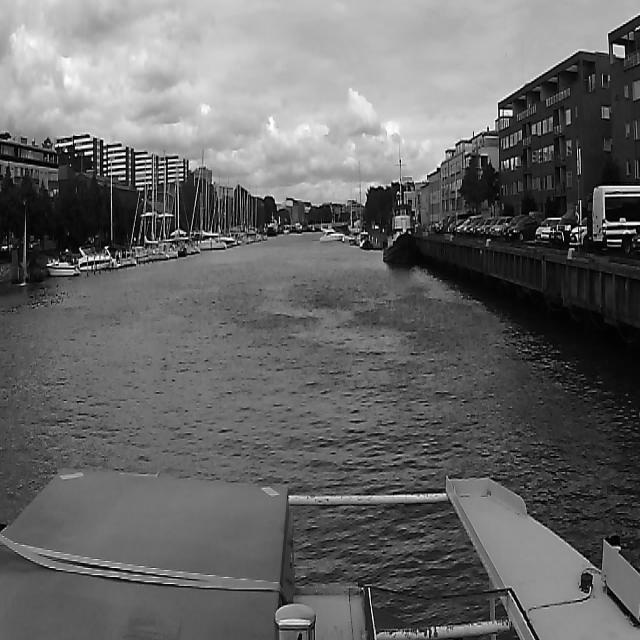ship: (102, 156, 144, 268), (196, 150, 226, 252), (152, 154, 178, 258), (384, 204, 419, 266), (173, 164, 196, 257), (135, 157, 151, 263), (41, 255, 83, 279), (79, 242, 109, 271), (320, 223, 344, 242), (360, 220, 374, 250), (267, 218, 277, 236), (296, 224, 302, 233)
